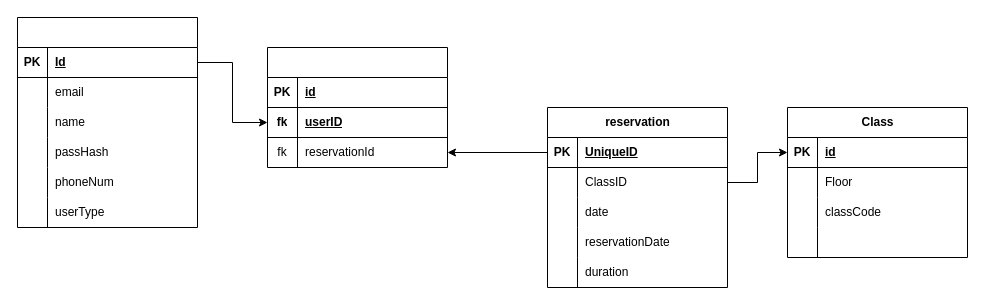
This 985x305 diagram has some shape labels left out. The shapes that lost their labels are listed below. From the top down, each one's box as (x1, y1, x2, y2) in pixels, then its label:
(16, 16, 198, 228): users
(266, 46, 448, 168): joinUser
